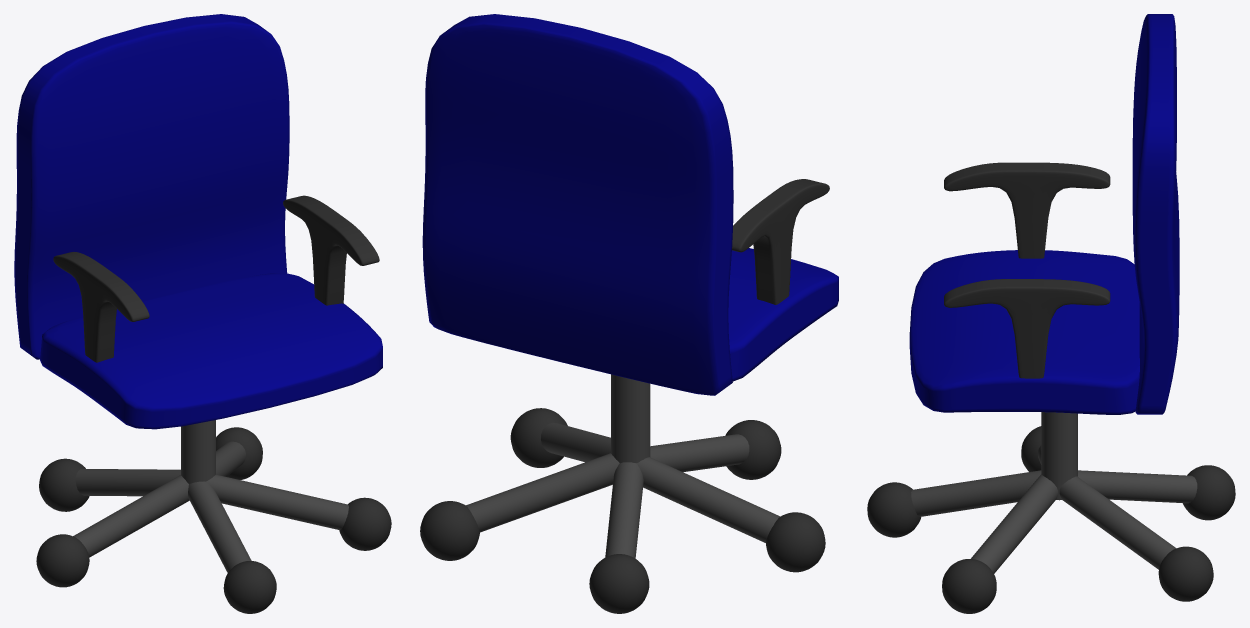
File: chair2.fbx
The picture shows the model from 3 angles, left to right: view 1: azimuth 30°, elevation 25°; view 2: azimuth 150°, elevation 25°; view 3: azimuth 270°, elevation 25°; orthographic projection. The views are drawn at different scales.
Visible parts, largest first — view 1: pCube1, pCube2, pCube3, pCube5, polySurface1, polySurface5, polySurface3, polySurface9, polySurface6, polySurface4, polySurface2, pCylinder1 (+3 smaller); view 2: pCube1, pCube2, pCube5, polySurface7, polySurface5, pCylinder1, polySurface10, polySurface6, polySurface8, polySurface9, polySurface3, polySurface4 (+2 smaller); view 3: pCube2, pCube1, pCube3, pCube5, polySurface7, polySurface3, polySurface9, polySurface1, pCylinder1, polySurface8, polySurface2, polySurface4 (+2 smaller).
Boxes of the visible parts, x1,y1,x2,y2 form: pCube1: [14, 14, 289, 359]; pCube2: [40, 273, 382, 429]; pCube3: [283, 195, 379, 305]; pCube5: [53, 252, 149, 362]; polySurface1: [206, 474, 348, 530]; polySurface5: [73, 475, 189, 557]; polySurface3: [188, 481, 251, 572]; polySurface9: [75, 469, 180, 496]; polySurface6: [36, 534, 89, 587]; polySurface4: [223, 561, 276, 613]; polySurface2: [339, 497, 391, 550]; pCylinder1: [181, 420, 215, 484]; pCube1: [422, 14, 733, 395]; pCube2: [728, 248, 838, 381]; pCube5: [732, 179, 829, 304]; polySurface7: [466, 453, 619, 532]; polySurface5: [636, 457, 780, 542]; pCylinder1: [611, 374, 650, 463]; polySurface10: [589, 554, 649, 613]; polySurface6: [766, 512, 825, 572]; polySurface8: [420, 501, 479, 560]; polySurface9: [605, 462, 643, 558]; polySurface3: [650, 434, 749, 472]; polySurface4: [725, 420, 781, 479]; pCube2: [909, 250, 1139, 414]; pCube1: [1132, 14, 1179, 414]; pCube3: [944, 279, 1110, 378]; pCube5: [944, 162, 1110, 258]; polySurface7: [1059, 476, 1176, 569]; polySurface3: [911, 470, 1041, 516]; polySurface9: [1077, 470, 1197, 503]; polySurface1: [971, 474, 1057, 573]; pCylinder1: [1041, 412, 1077, 500]; polySurface8: [1158, 546, 1213, 601]; polySurface2: [942, 559, 996, 613]; polySurface4: [867, 482, 921, 537].
Bounding box in the file's own units: 8.72 × 12.96 × 8.65.
